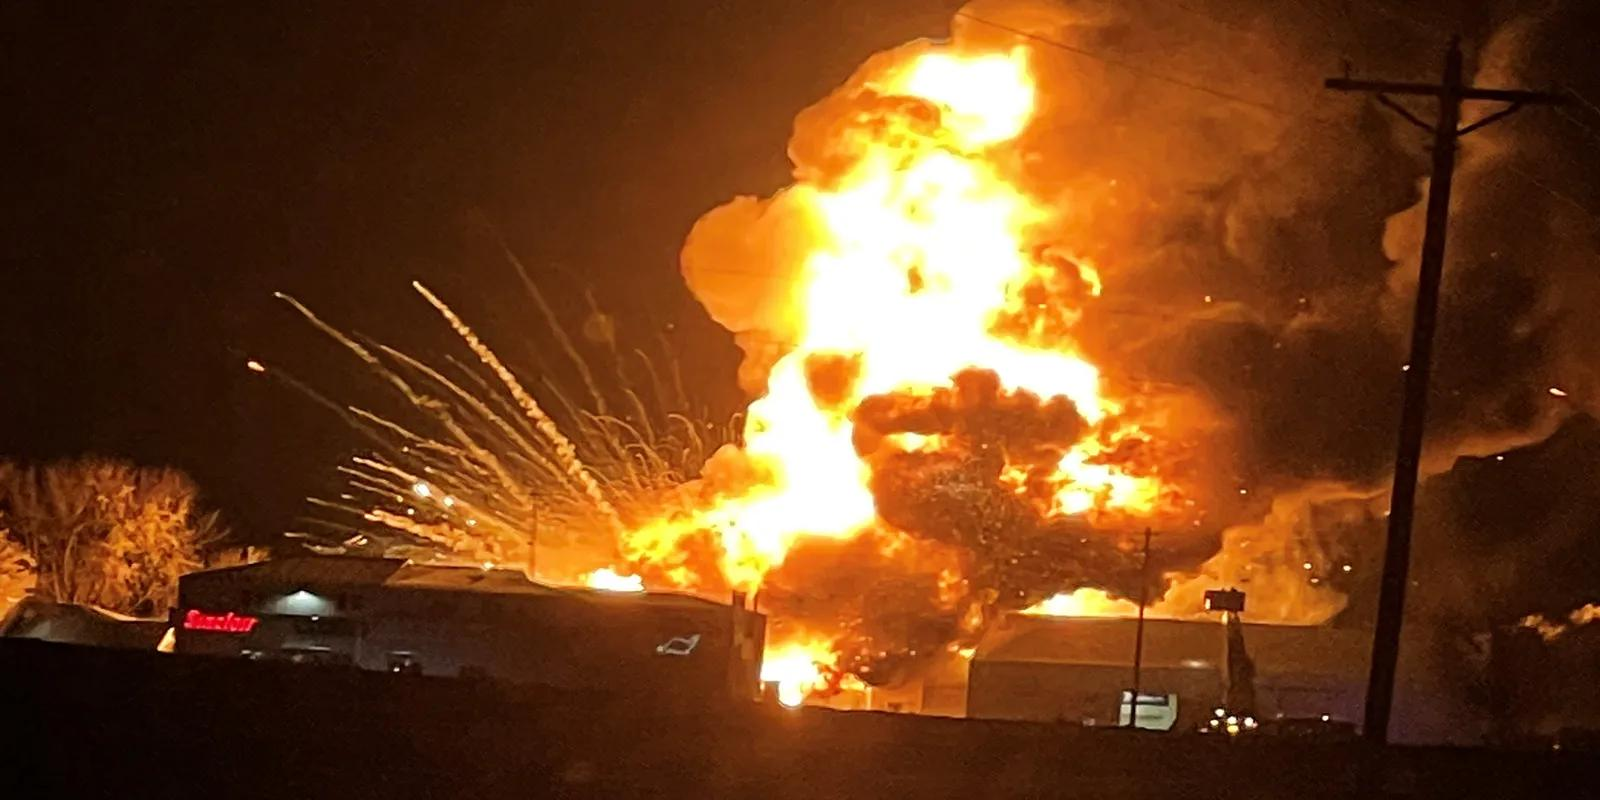fire: (598, 17, 1149, 712)
